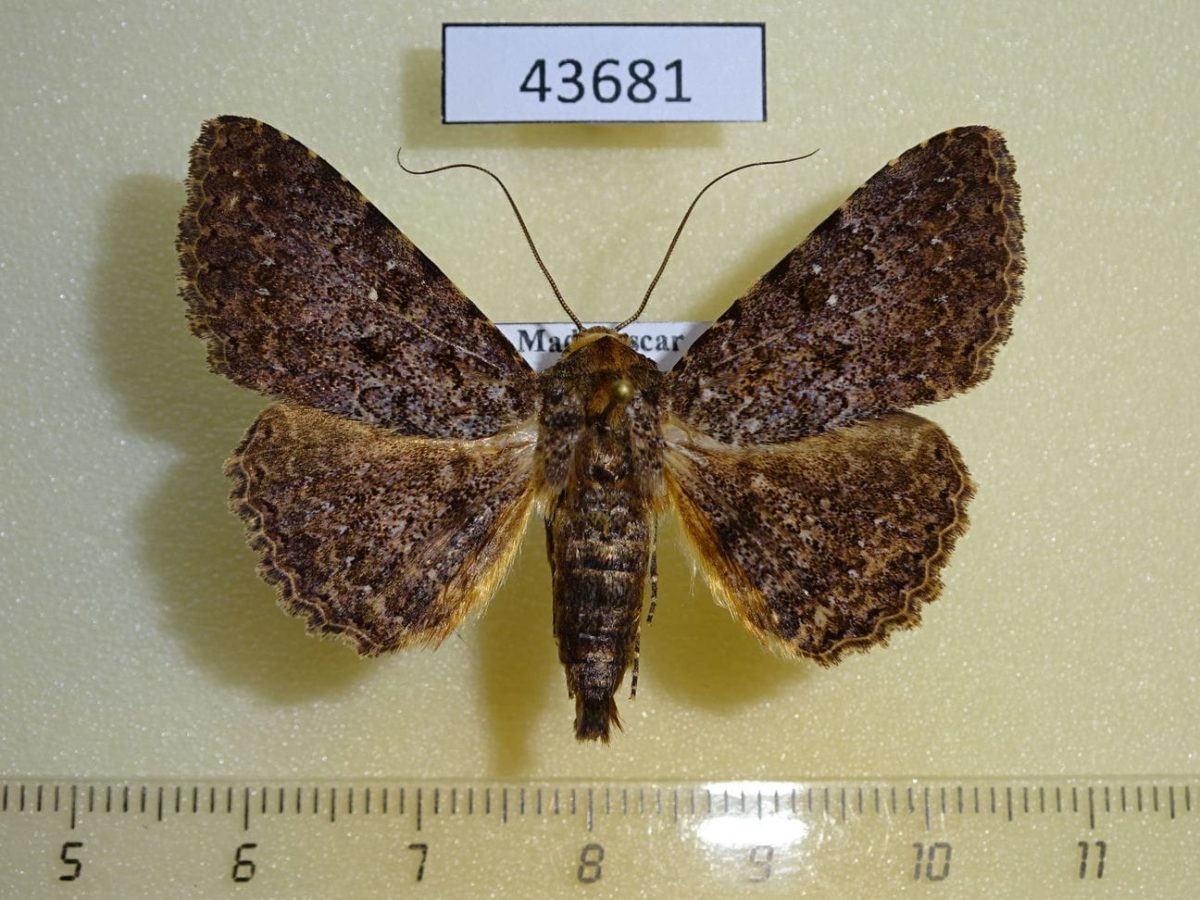Noctuidae: (173, 117, 1033, 752)
